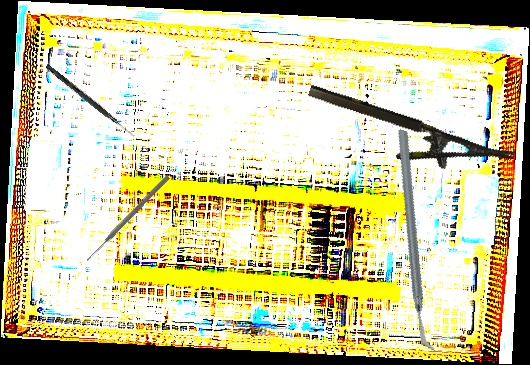Chopper: (336, 128, 498, 354)
Hook Surgical: (44, 63, 137, 139)
Needle Holder: (298, 81, 515, 195)
Pusher: (84, 173, 171, 264)
